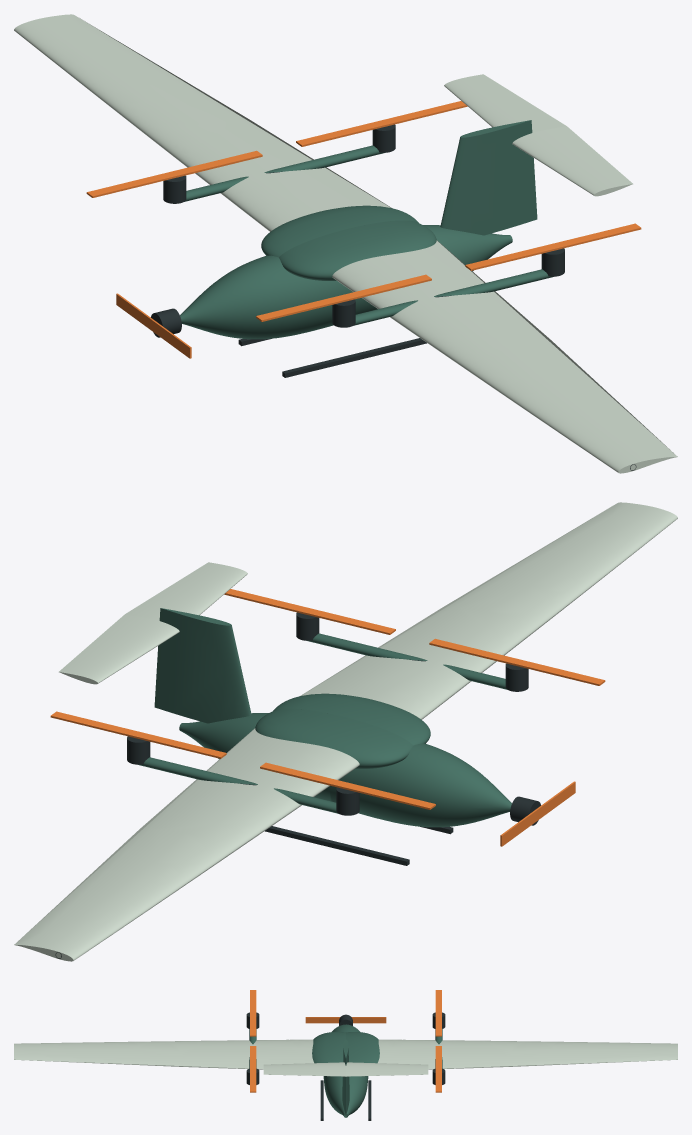
Rendered from surface_tools-11-model.glb.
3 views of the same model, one above another, from view 1: azimuth 30°, elevation 25°; view 2: azimuth 150°, elevation 25°; view 3: azimuth 270°, elevation 25° (orthographic). The views are drawn at different scales.
Parts seen in each view (by area): view 1: wing-1, wing1, fuselage, fin, root_fairing-1, tail-1, root_fairing1, tail1, boom_fairing-1, boom_fairing1, prop_1_200.0, prop_-1_200.0 (+4 smaller); view 2: wing1, wing-1, fuselage, fin, root_fairing1, tail1, root_fairing-1, tail-1, boom_fairing1, boom_fairing-1, prop_-1_200.0, prop_1_200.0 (+4 smaller); view 3: wing-1, wing1, fuselage, tail-1, tail1, root_fairing-1, root_fairing1, cruise_prop, fin, prop_-1_200.0, prop_-1_700.0, prop_1_200.0 (+1 smaller).
Boxes of the visible parts, x1=… form: wing-1: x1=332, y1=240, x2=677, y2=473; wing1: x1=14, y1=14, x2=391, y2=231; fuselage: x1=180, y1=225, x2=512, y2=339; fin: x1=440, y1=120, x2=537, y2=235; root_fairing-1: x1=279, y1=220, x2=436, y2=280; tail-1: x1=512, y1=126, x2=632, y2=196; root_fairing1: x1=261, y1=205, x2=418, y2=257; tail1: x1=444, y1=74, x2=566, y2=132; boom_fairing-1: x1=353, y1=269, x2=553, y2=325; boom_fairing1: x1=184, y1=145, x2=385, y2=201; prop_1_200.0: x1=86, y1=150, x2=262, y2=197; prop_-1_200.0: x1=256, y1=274, x2=431, y2=321; wing1: x1=14, y1=728, x2=359, y2=961; wing-1: x1=300, y1=502, x2=677, y2=719; fuselage: x1=179, y1=713, x2=511, y2=827; fin: x1=154, y1=608, x2=251, y2=723; root_fairing1: x1=255, y1=708, x2=412, y2=768; tail1: x1=59, y1=614, x2=179, y2=684; root_fairing-1: x1=273, y1=693, x2=430, y2=745; tail-1: x1=125, y1=562, x2=247, y2=620; boom_fairing1: x1=138, y1=757, x2=338, y2=813; boom_fairing-1: x1=306, y1=633, x2=507, y2=689; prop_-1_200.0: x1=429, y1=638, x2=605, y2=685; prop_1_200.0: x1=260, y1=762, x2=435, y2=809; wing-1: x1=14, y1=1039, x2=313, y2=1069; wing1: x1=378, y1=1039, x2=677, y2=1069; fuselage: x1=323, y1=1024, x2=368, y2=1117; tail-1: x1=263, y1=1062, x2=345, y2=1076; tail1: x1=346, y1=1062, x2=428, y2=1076; root_fairing-1: x1=312, y1=1032, x2=345, y2=1063; root_fairing1: x1=346, y1=1032, x2=379, y2=1063; cruise_prop: x1=305, y1=1017, x2=386, y2=1023; fin: x1=342, y1=1039, x2=349, y2=1114; prop_-1_200.0: x1=250, y1=990, x2=256, y2=1036; prop_-1_700.0: x1=250, y1=1046, x2=256, y2=1092; prop_1_200.0: x1=435, y1=990, x2=441, y2=1036.
Size of the model in its own units: 989 by 400 by 2500.
